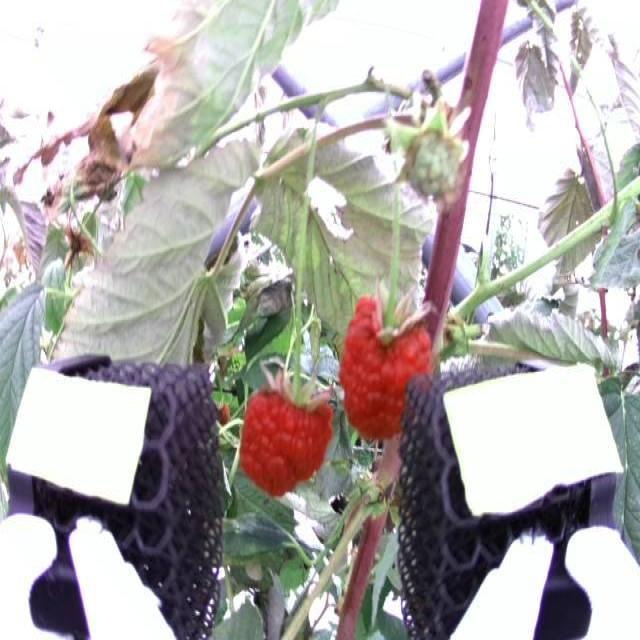Riped berries: (337, 285, 436, 436), (236, 369, 334, 488)
